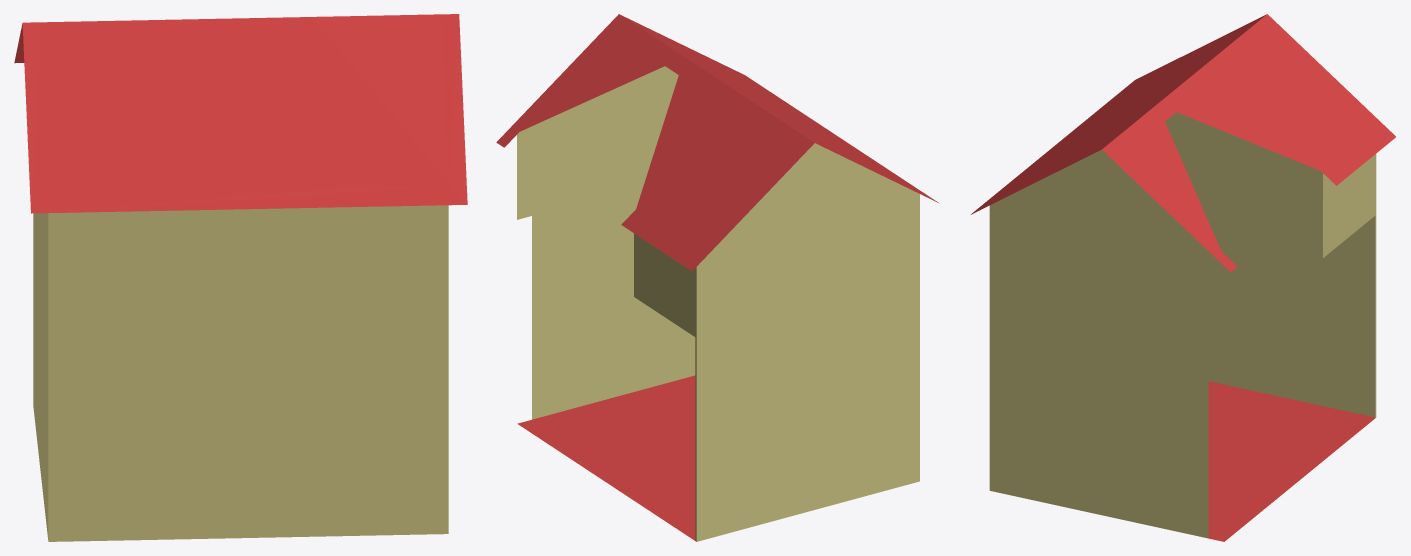
3 views of the same model, side by side, from view 1: azimuth 30°, elevation 25°; view 2: azimuth 150°, elevation 25°; view 3: azimuth 270°, elevation 25° (orthographic). The views are drawn at different scales.
Bounding box in the file's own units: 15.1 × 14.14 × 13.62.
